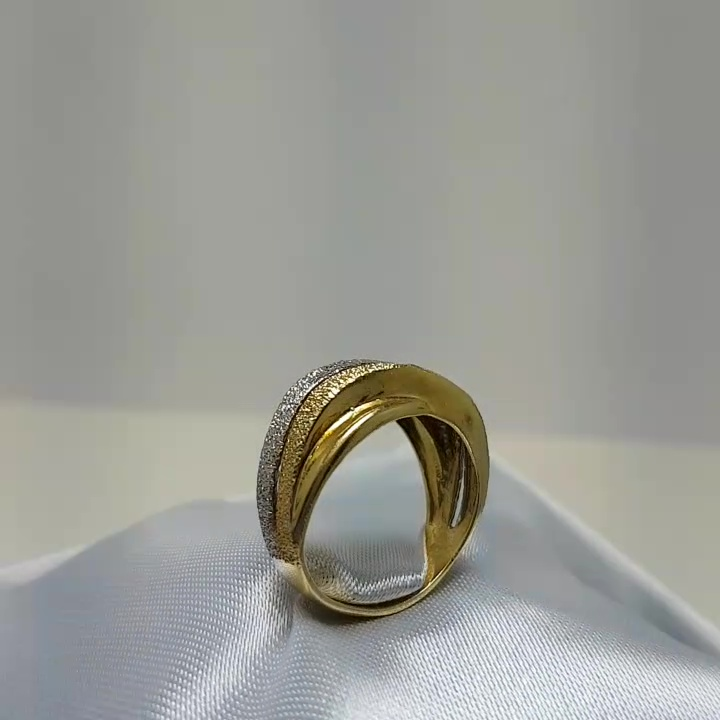Ring 5: (233, 329, 513, 645)
